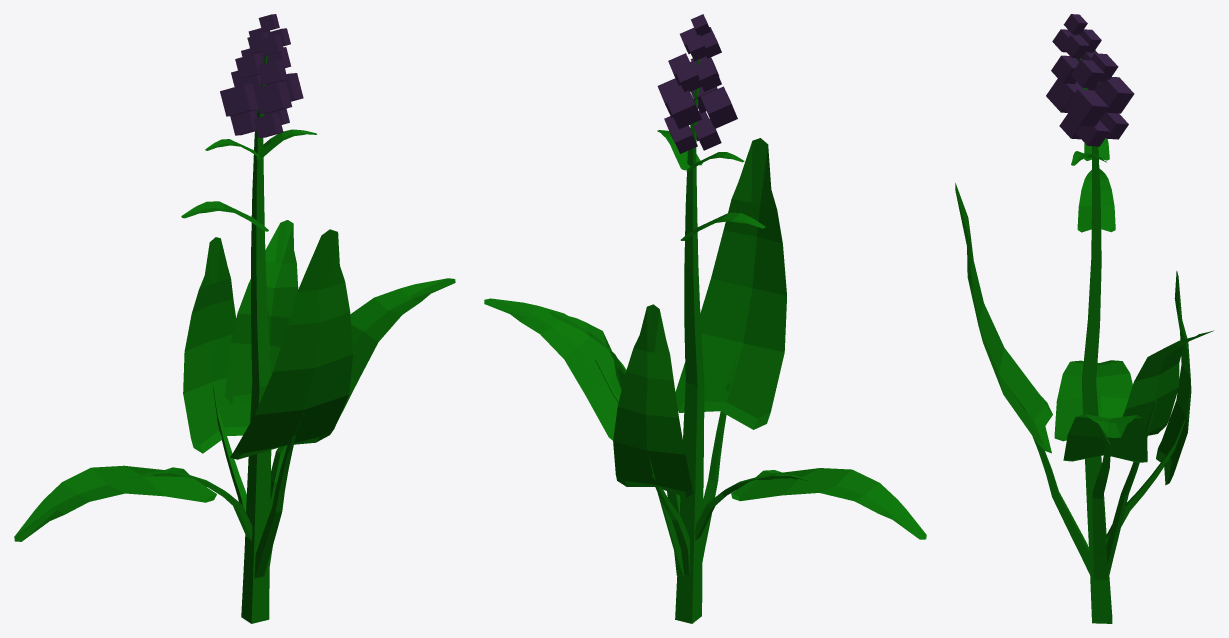
File: ЩАВЕЛЬ.fbx
3 views of the same model, side by side, from view 1: azimuth 30°, elevation 25°; view 2: azimuth 150°, elevation 25°; view 3: azimuth 270°, elevation 25° (orthographic). The views are drawn at different scales.
Parts seen in each view (by area): view 1: Cube.022; view 2: Cube.022; view 3: Cube.022.
Boxes of the visible parts, <box> form: Cube.022: <box>14,14,455,623</box>; Cube.022: <box>484,14,926,623</box>; Cube.022: <box>955,14,1213,623</box>.
Bounding box in the file's own units: 5061 × 6624 × 2573.
